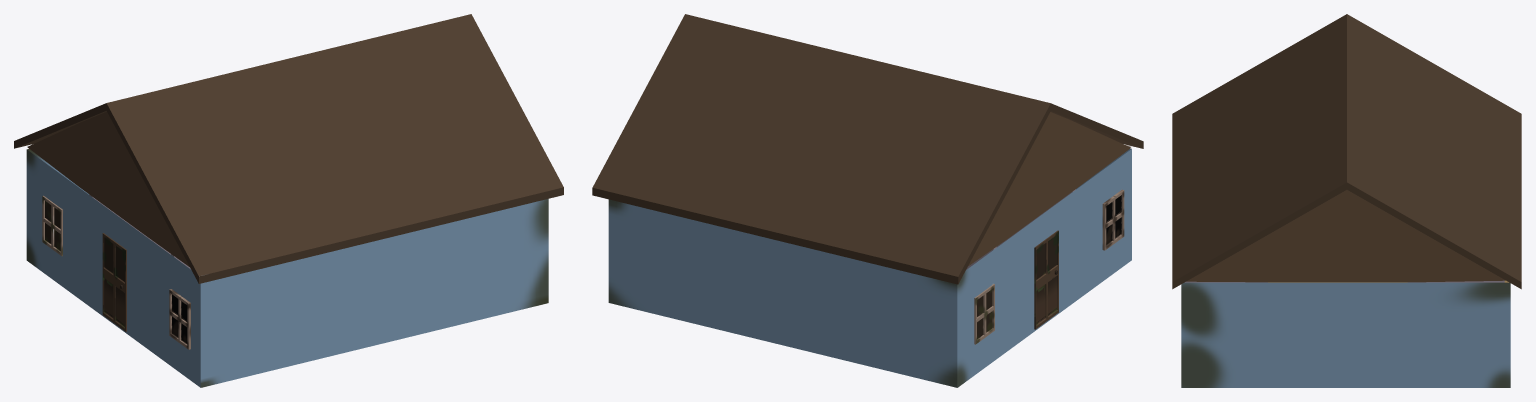
Rendered from Casas1.fbx.
The picture shows the model from 3 angles, left to right: view 1: azimuth 30°, elevation 25°; view 2: azimuth 150°, elevation 25°; view 3: azimuth 270°, elevation 25°; orthographic projection. The views are drawn at different scales.
Visible parts, largest first — view 1: Techo Casa 1, Casa1; view 2: Techo Casa 1, Casa1; view 3: Techo Casa 1, Casa1.
Boxes of the visible parts, x1,y1,x2,y2 form: Techo Casa 1: (14,14,563,283); Casa1: (26,149,548,387); Techo Casa 1: (592,14,1143,284); Casa1: (608,148,1131,387); Techo Casa 1: (1172,14,1521,289); Casa1: (1181,280,1510,387).
Bounding box in the file's own units: 10485 × 6108 × 9200.
Materials: 1 (1 with a texture image).
